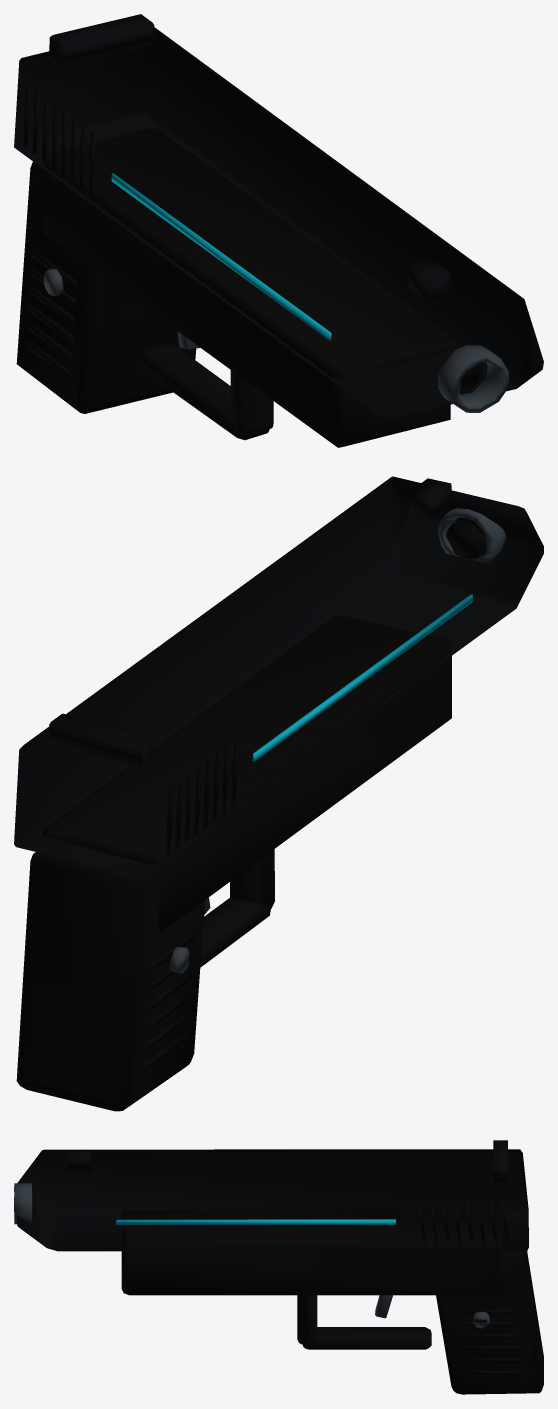
The model's file is weapon_pistol.glb.
3 views of the same model, one above another, from view 1: azimuth 30°, elevation 25°; view 2: azimuth 150°, elevation 25°; view 3: azimuth 270°, elevation 25° (orthographic). The views are drawn at different scales.
Visible parts, largest first — view 1: weapon_pistol; view 2: weapon_pistol; view 3: weapon_pistol.
Boxes of the visible parts, box(x1,y1,x2,y2) form: weapon_pistol: box(14, 14, 543, 447); weapon_pistol: box(14, 476, 543, 1111); weapon_pistol: box(14, 1140, 543, 1394).
Bounding box in the file's own units: 0.0693 × 0.1589 × 0.3399.
Materials: 1 (1 with a texture image).
